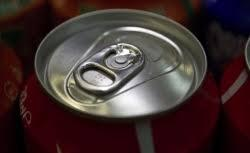Aluminum can: (23, 10, 224, 144)
